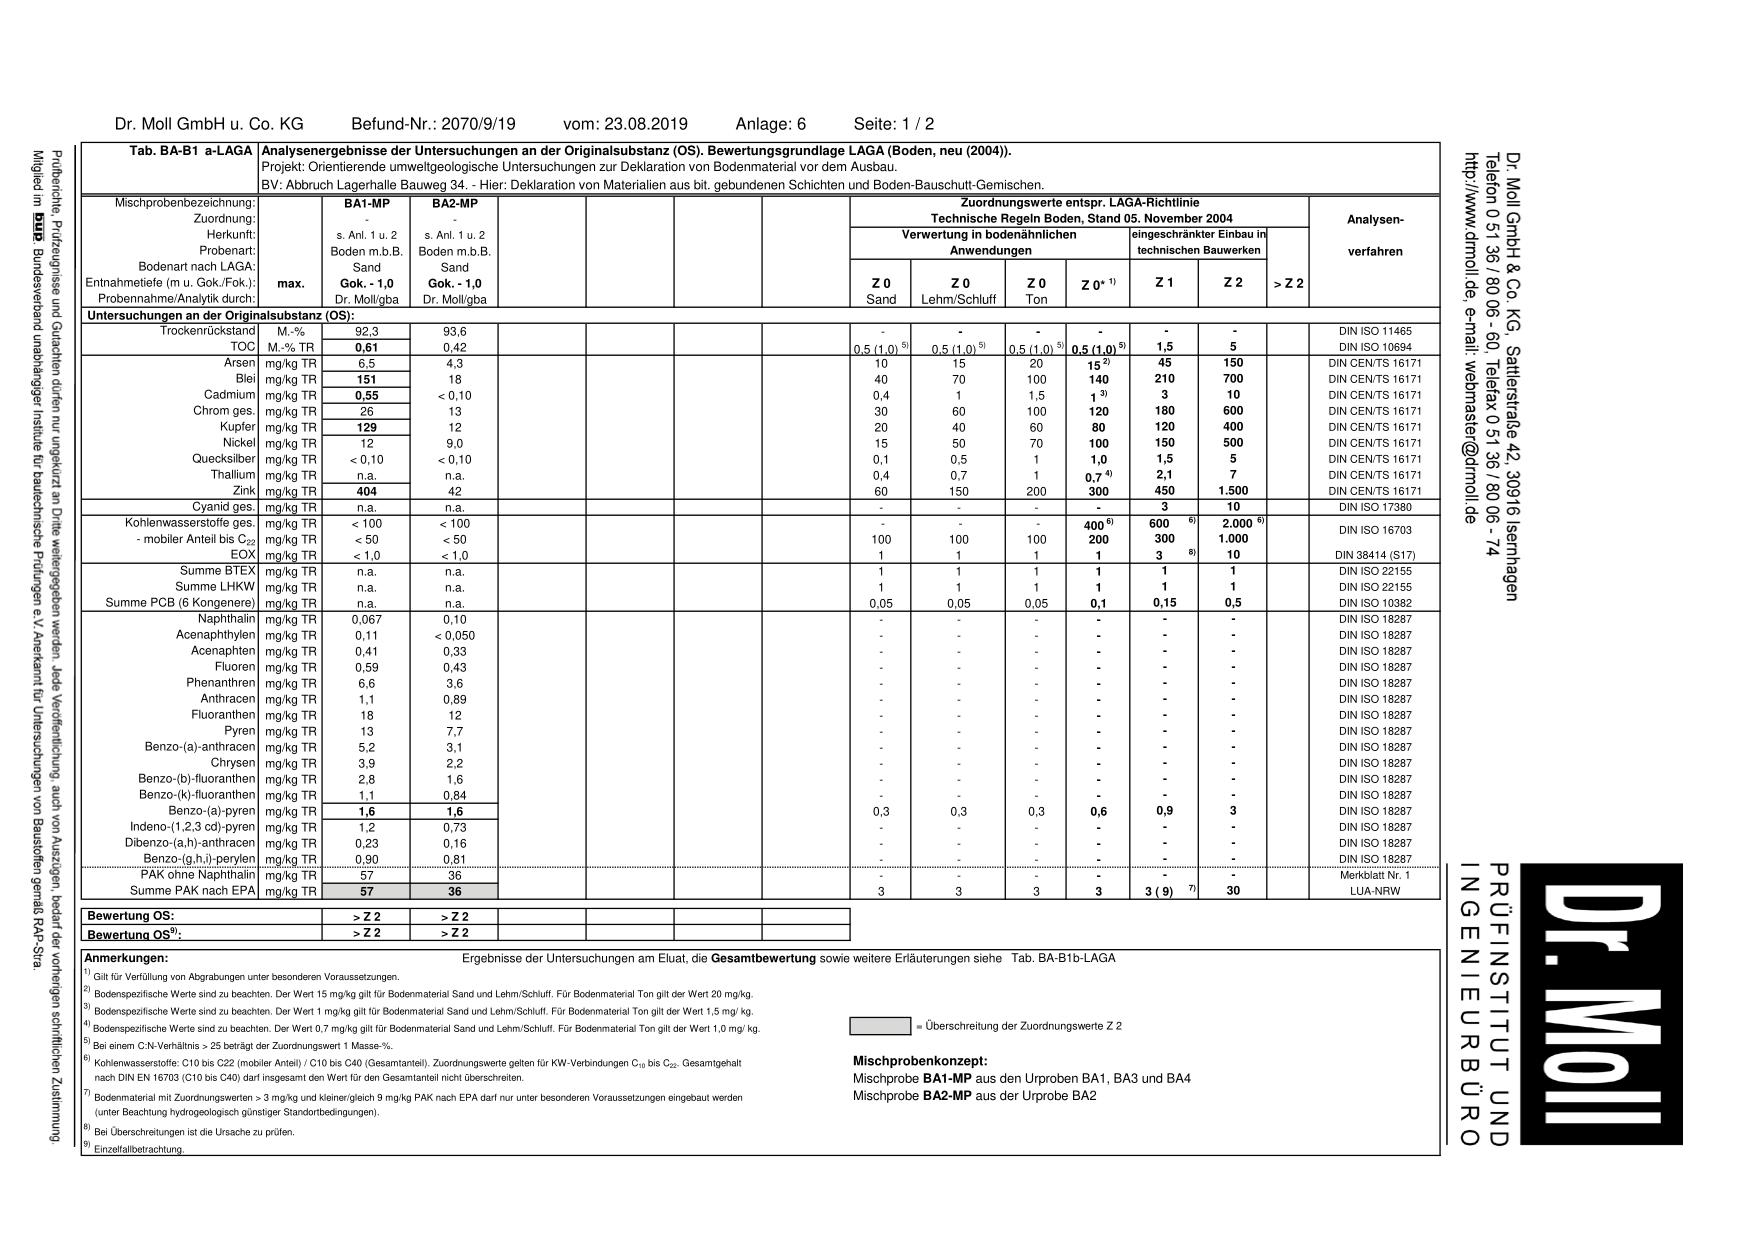table: (851, 320, 1428, 894), (107, 324, 494, 899)
